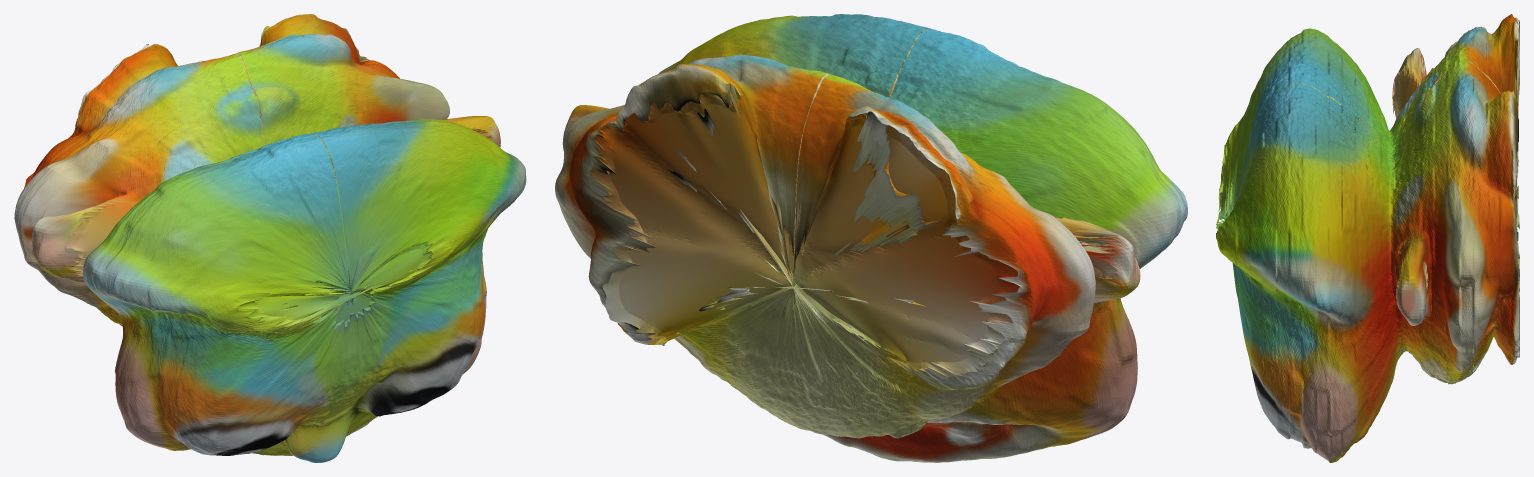
The model's file is membrane3_mesh.glb.
3 renders of one model, left to right at view 1: azimuth 30°, elevation 25°; view 2: azimuth 150°, elevation 25°; view 3: azimuth 270°, elevation 25°, orthographic. The views are drawn at different scales.
Visible parts, largest first — view 1: ipn, fill; view 2: ipn, fill; view 3: ipn, fill.
Boxes of the visible parts, bbox=[...] form: ipn: bbox=[14, 14, 526, 462]; fill: bbox=[44, 38, 492, 330]; ipn: bbox=[555, 14, 1187, 462]; fill: bbox=[590, 92, 1121, 376]; ipn: bbox=[1216, 14, 1519, 462]; fill: bbox=[1216, 23, 1519, 299].
Bounding box in the file's own units: 1.97 × 1.49 × 1.09.
2 materials, 1 textured.
